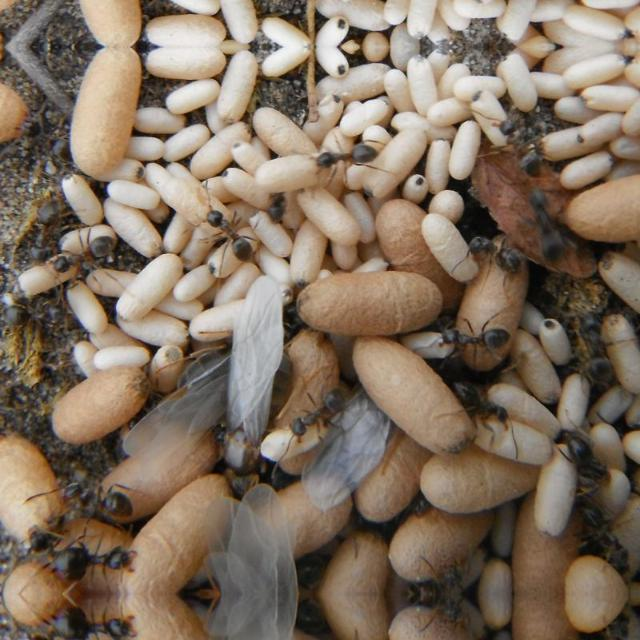Lasius: (440, 217, 534, 299), (525, 171, 593, 273), (559, 292, 627, 390), (0, 291, 84, 369), (476, 101, 564, 171), (46, 460, 142, 524), (286, 364, 362, 444), (559, 418, 621, 514), (416, 306, 520, 362), (287, 132, 397, 182), (52, 230, 130, 298), (8, 198, 76, 274), (192, 194, 266, 262), (568, 503, 628, 577), (454, 376, 520, 436), (54, 543, 144, 585), (54, 600, 144, 640), (568, 608, 628, 640)
